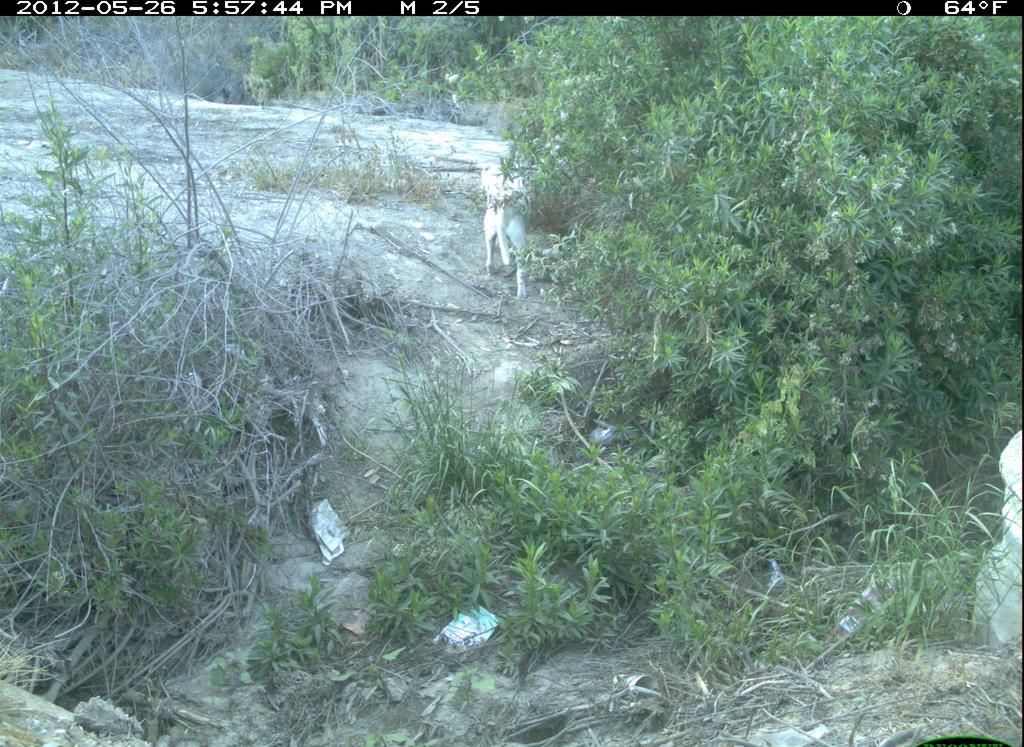dog: (474, 157, 545, 306)
